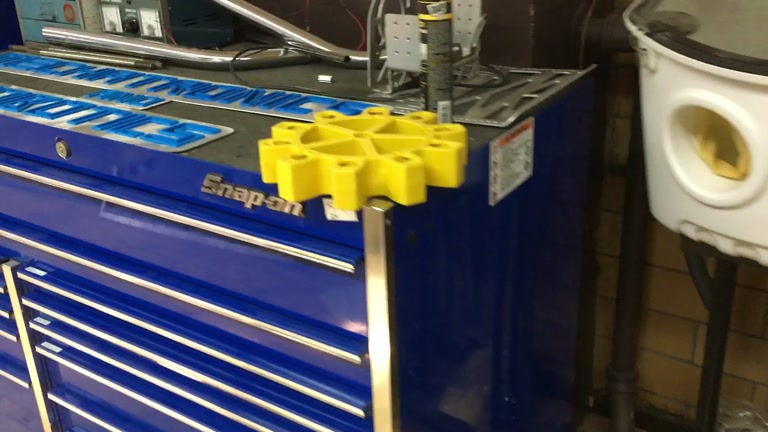gear: (257, 107, 467, 212)
